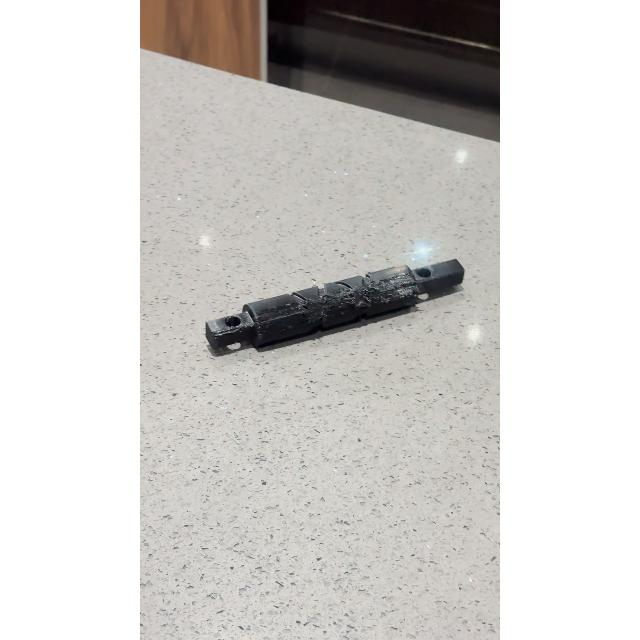Pieza_1: (193, 228, 473, 368)
